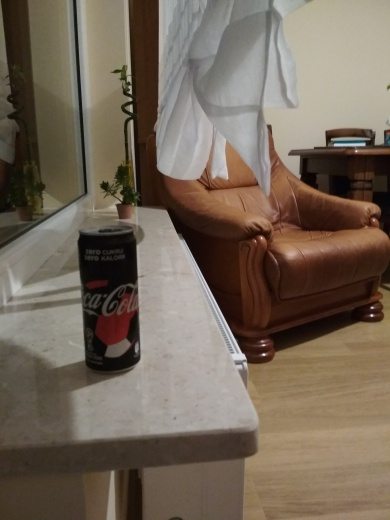colazero: (77, 221, 145, 377)
